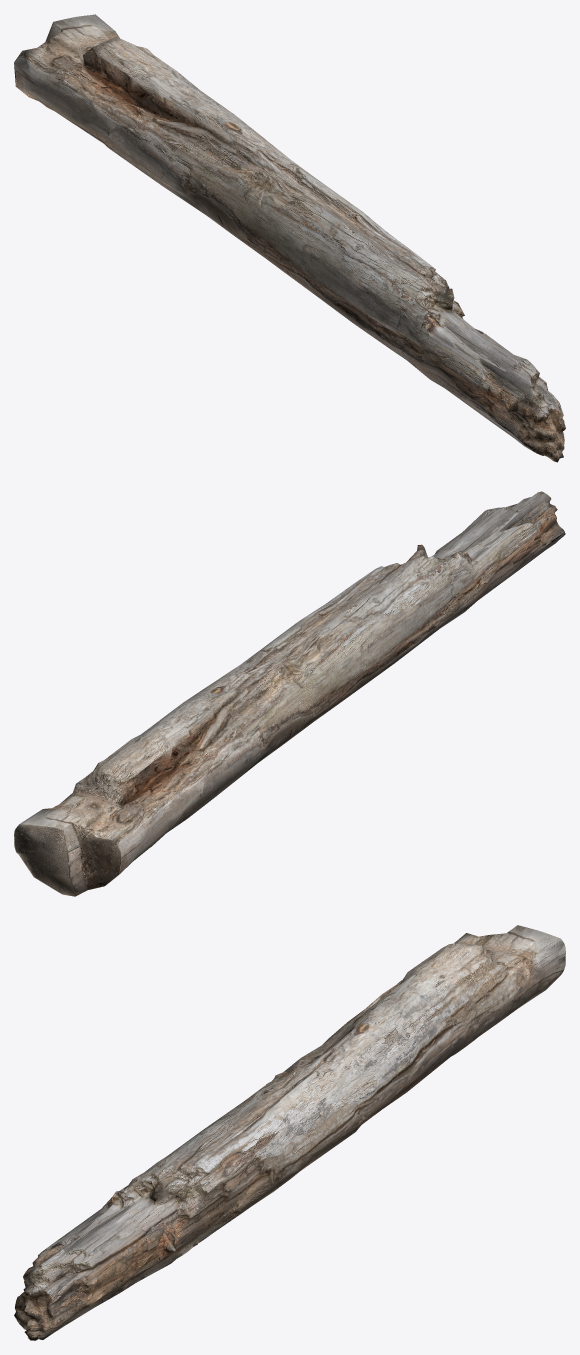
File: sm_FallenTree_01_01_low.fbx
The picture shows the model from 3 angles, top to bottom: view 1: azimuth 30°, elevation 25°; view 2: azimuth 150°, elevation 25°; view 3: azimuth 330°, elevation 25°; orthographic projection. The views are drawn at different scales.
Parts seen in each view (by area): view 1: sm_FallenTree_01_01_low_LOD0; view 2: sm_FallenTree_01_01_low_LOD0; view 3: sm_FallenTree_01_01_low_LOD0.
Part boxes in pixels (<box>): sm_FallenTree_01_01_low_LOD0: <box>14,14,565,462</box>; sm_FallenTree_01_01_low_LOD0: <box>14,491,565,896</box>; sm_FallenTree_01_01_low_LOD0: <box>14,925,565,1340</box>.
Size of the model in its own units: 41.93 by 369 by 38.63.
